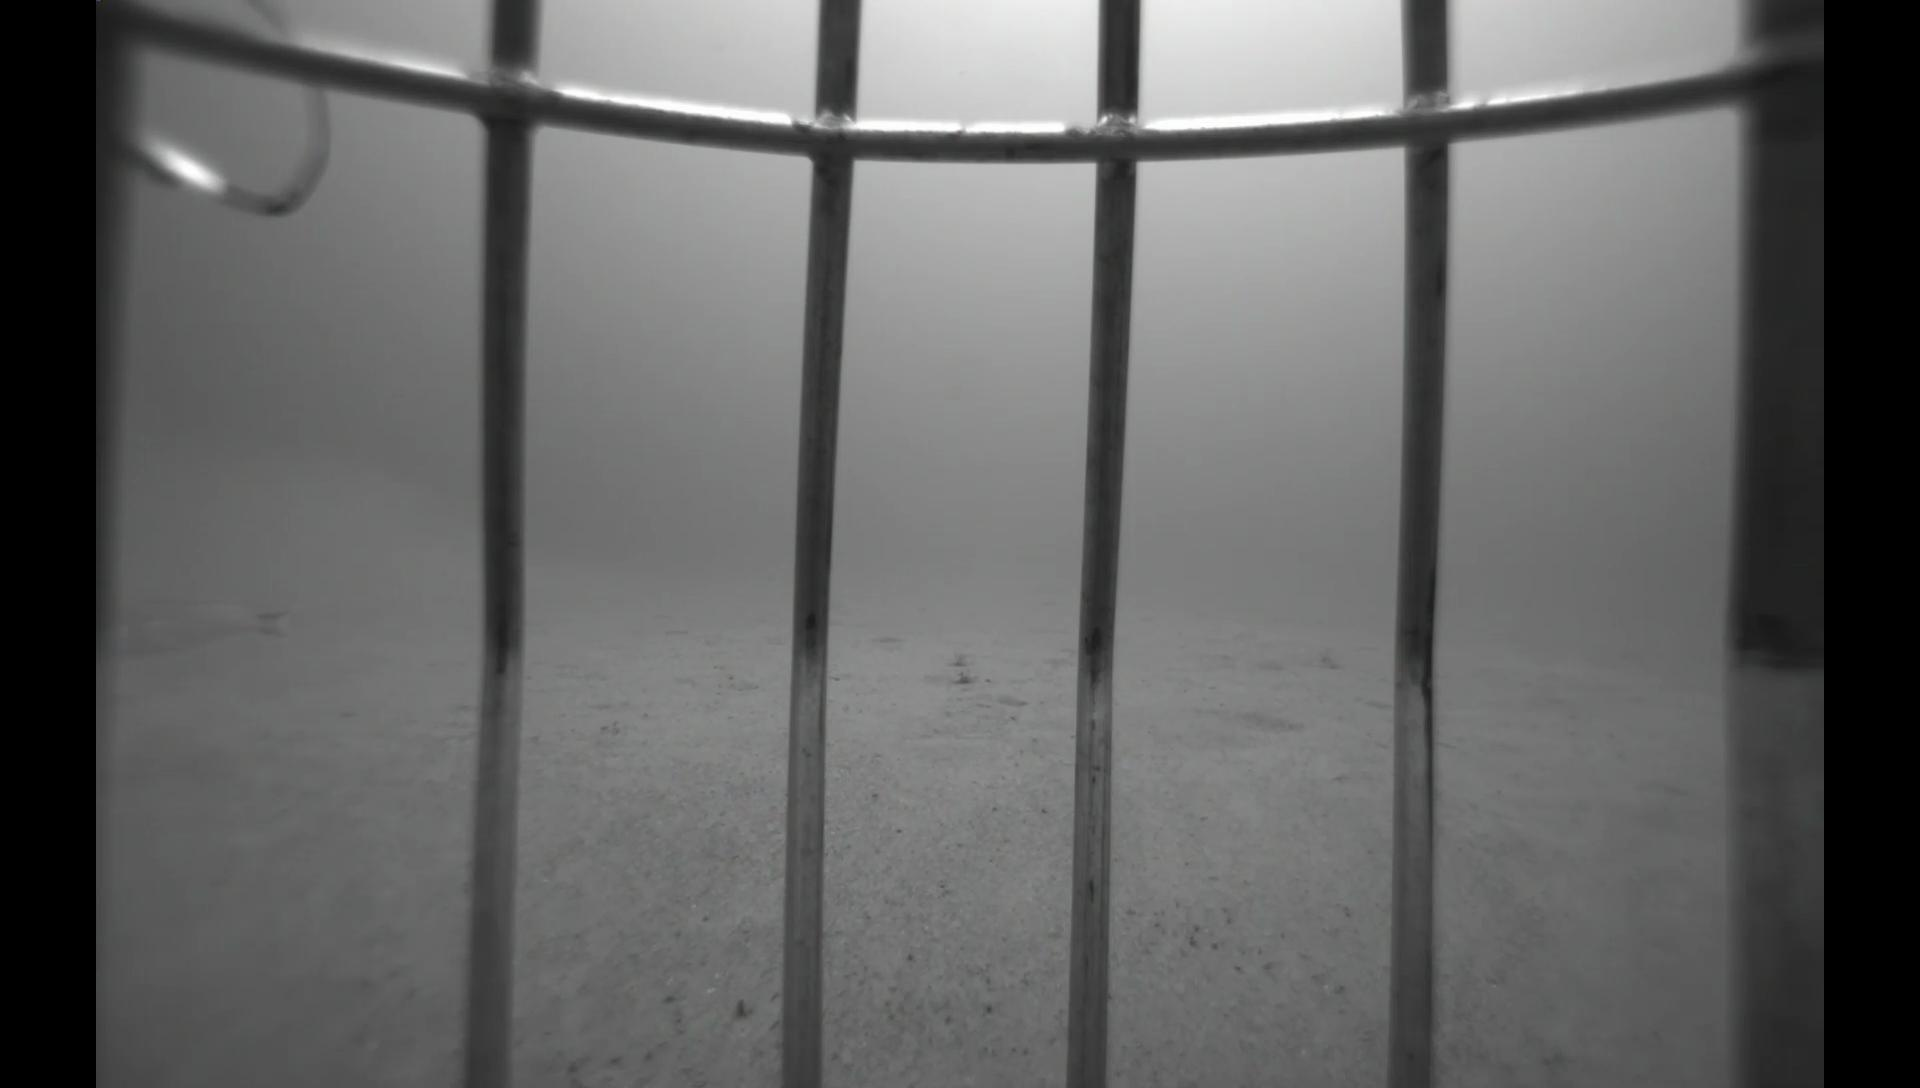CAULOLATILUSCYANOPS-170070101: (120, 592, 299, 655)
